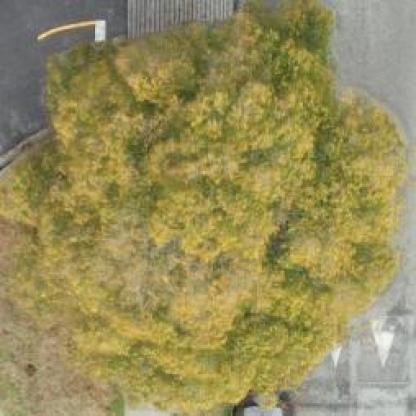Deciduous Tree: (33, 18, 403, 398)
